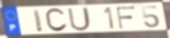1: (103, 7, 116, 30)
5: (140, 5, 161, 29)
C: (44, 7, 69, 33)
F: (115, 5, 137, 30)
I: (32, 9, 45, 34)
U: (66, 6, 92, 32)
